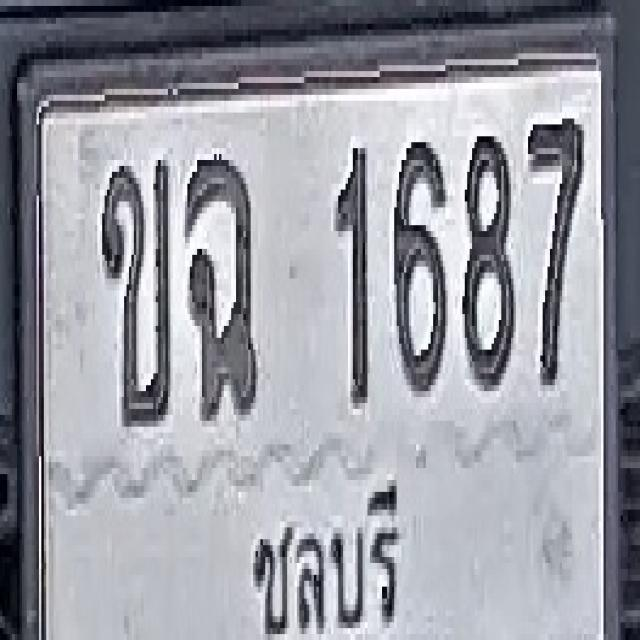1: (336, 142, 367, 403)
6: (393, 136, 447, 391)
7: (527, 113, 583, 385)
8: (462, 128, 514, 388)
A02: (101, 154, 172, 427)
A09: (185, 154, 258, 421)
CBI: (245, 474, 403, 640)
